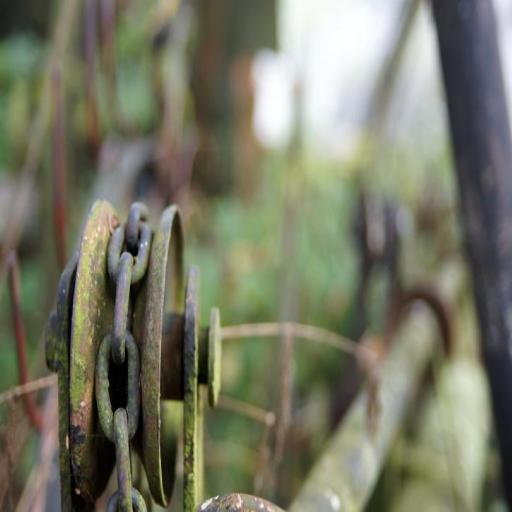segmentation: (46, 201, 220, 511)
